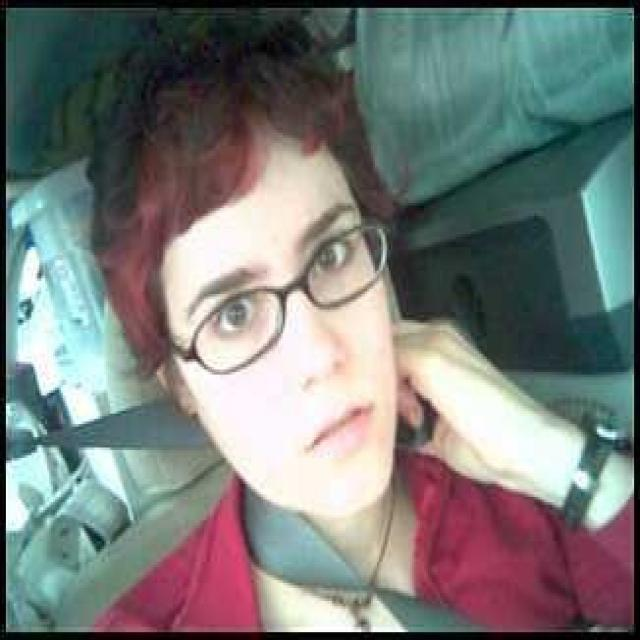awake: (199, 281, 275, 355), (301, 227, 362, 290)
seatbelt: (22, 369, 205, 476)
